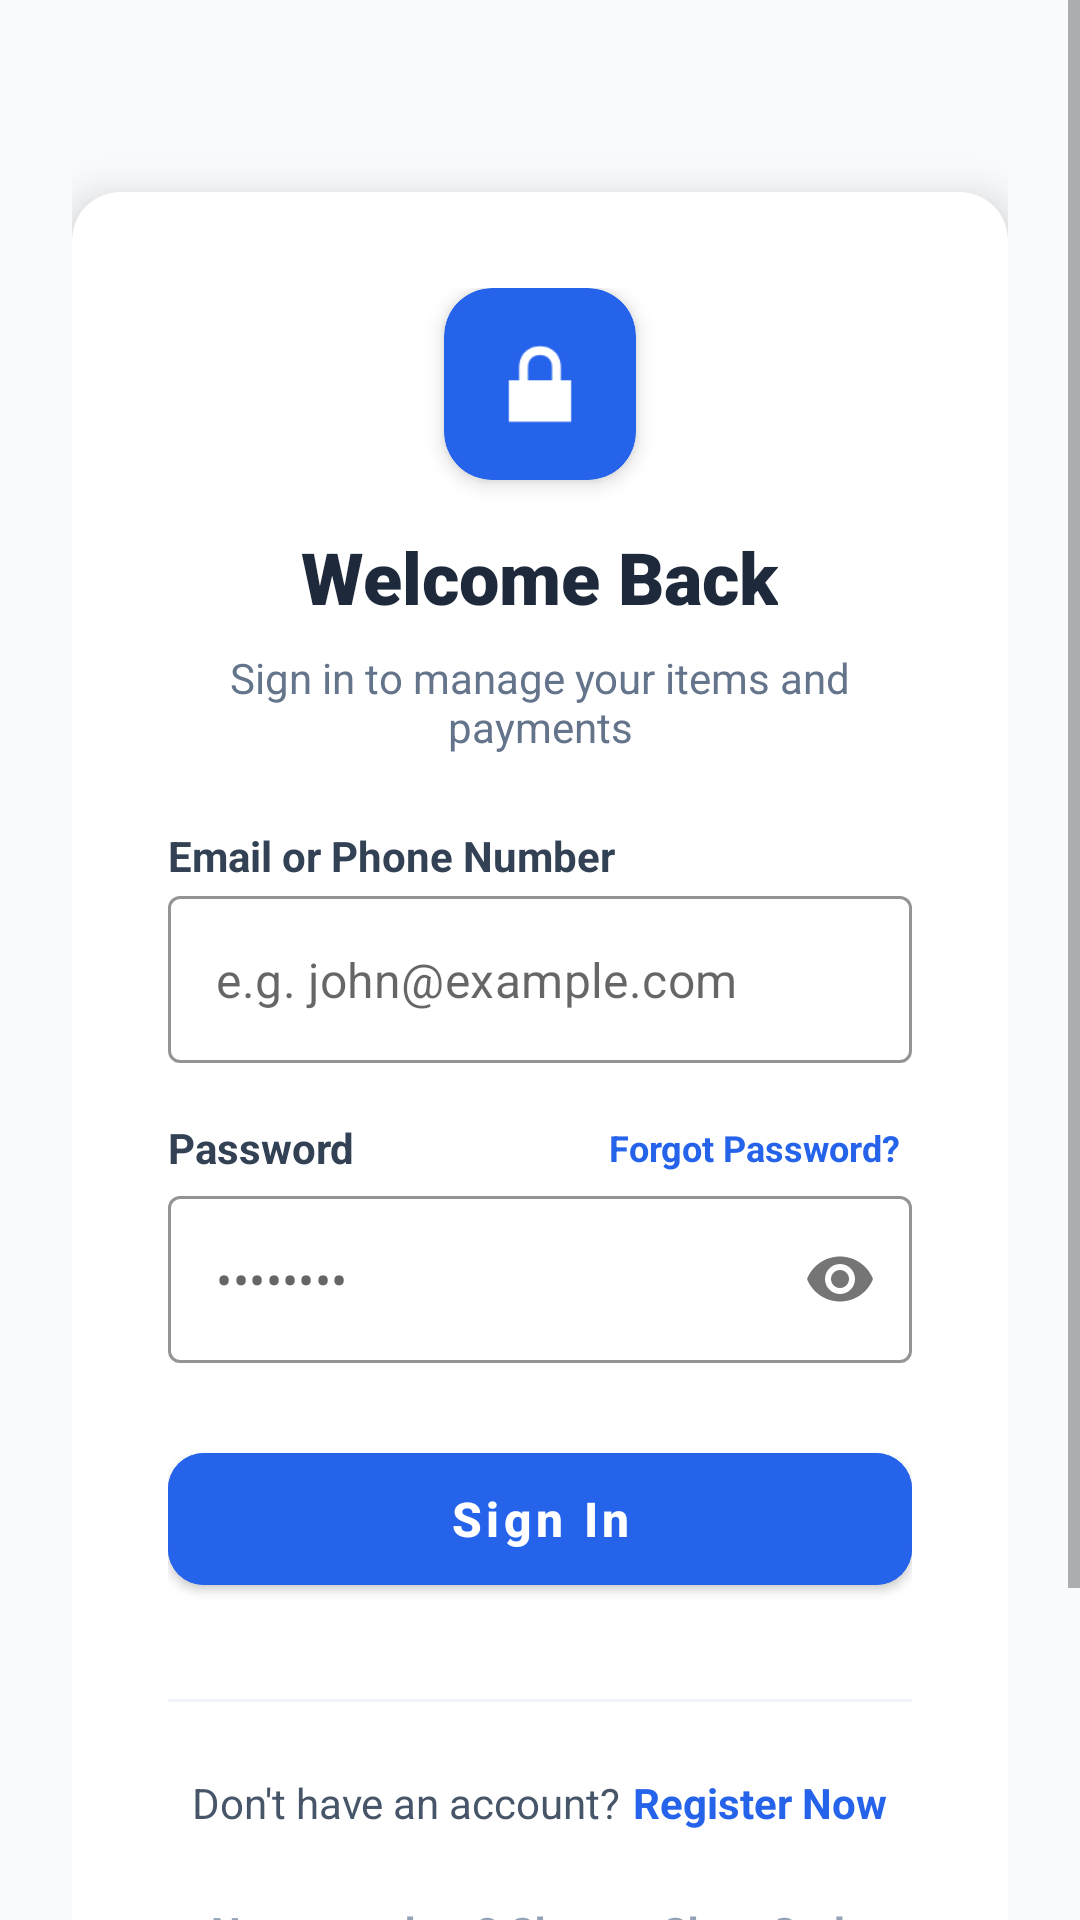

Point at icon controls on the screen. Image size 1080 × 1920, points as point (x, y).
lock: point (540, 384)
